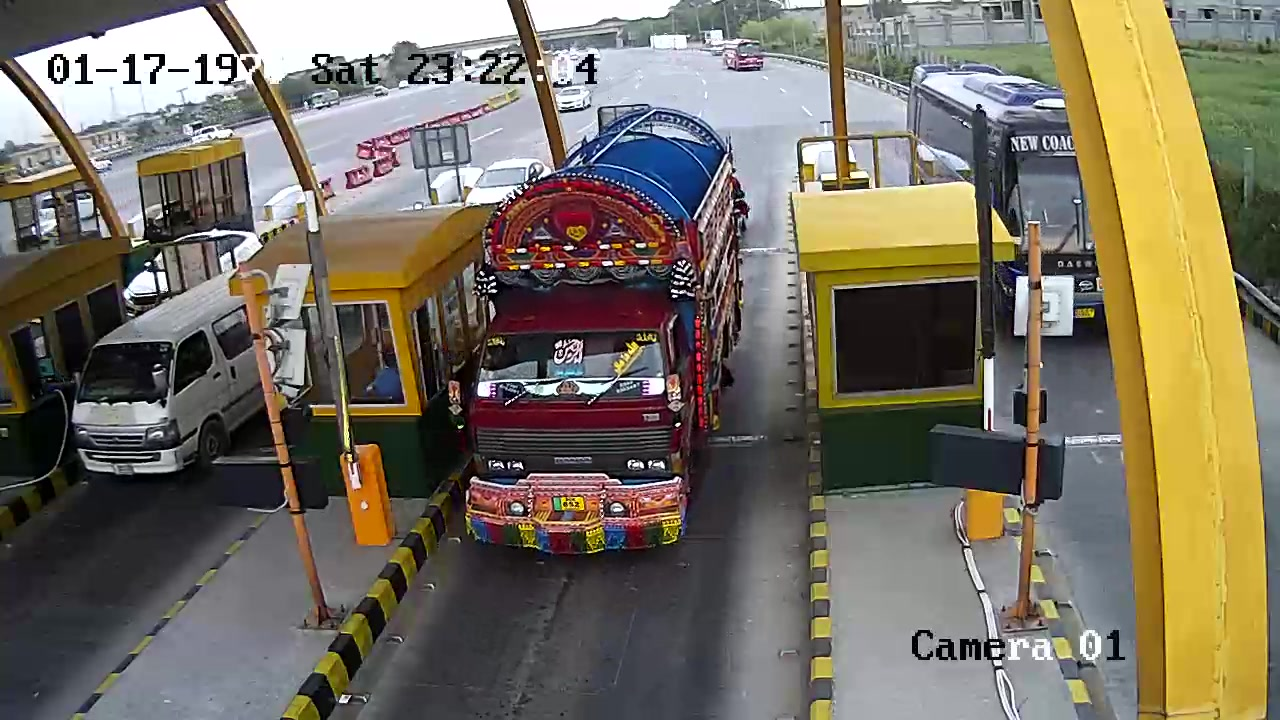F5: (458, 103, 760, 558)
